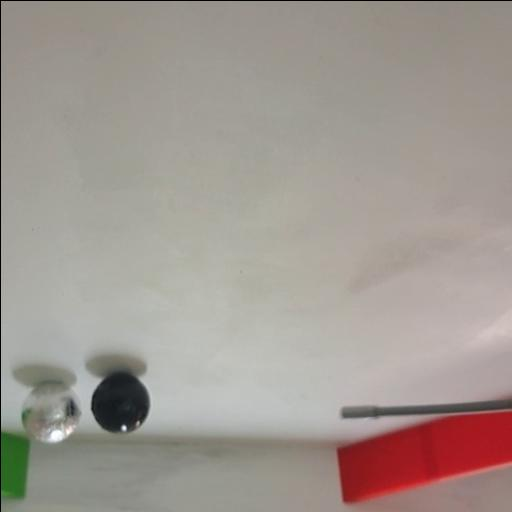alive: (20, 381, 81, 442)
dead: (89, 373, 150, 433)
